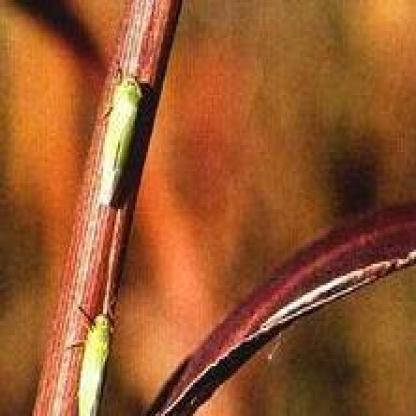Green-Leafhopper: (94, 59, 146, 207), (73, 301, 114, 416)
